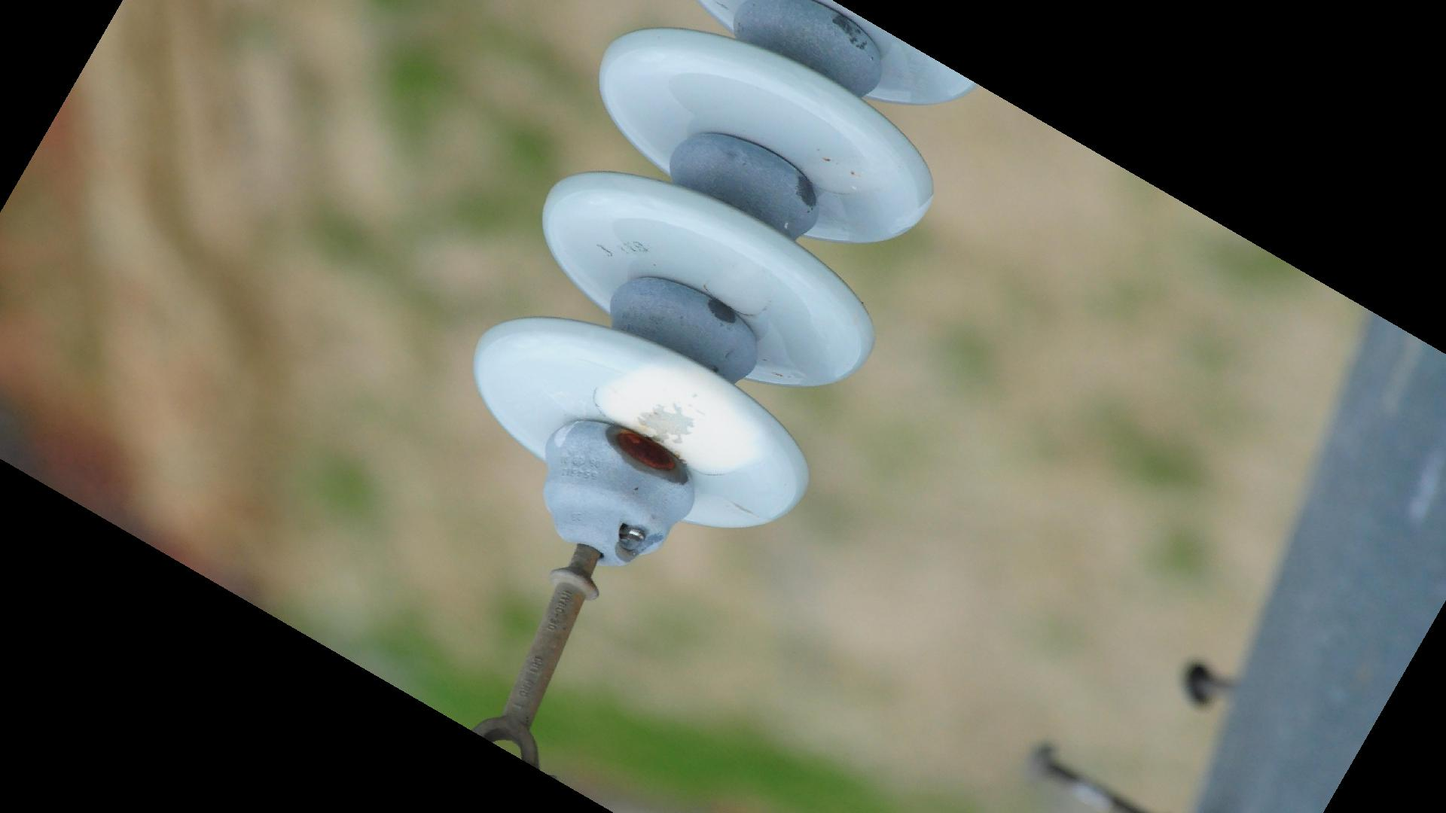insulator: (465, 1, 975, 539)
insulator_flashover: (591, 351, 775, 478)
